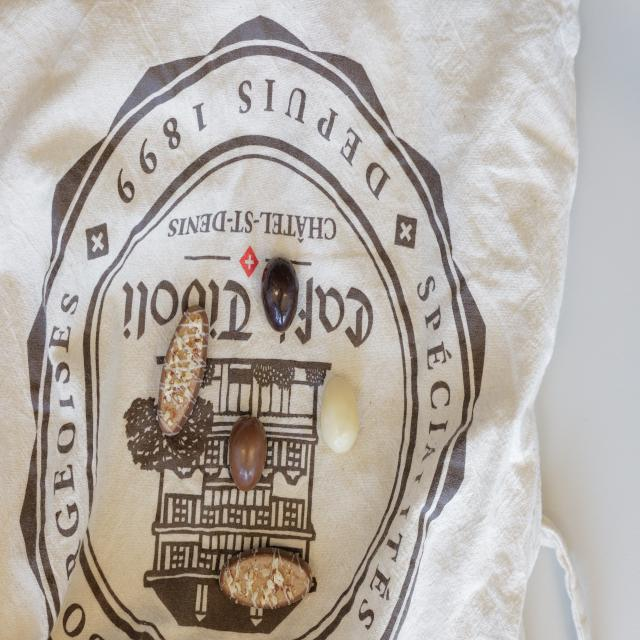Amandina: (156, 304, 210, 436), (220, 548, 313, 610)
Jelly_Black: (262, 254, 299, 336)
Jelly_Milk: (227, 414, 268, 493)
Jelly_White: (318, 375, 360, 455)
